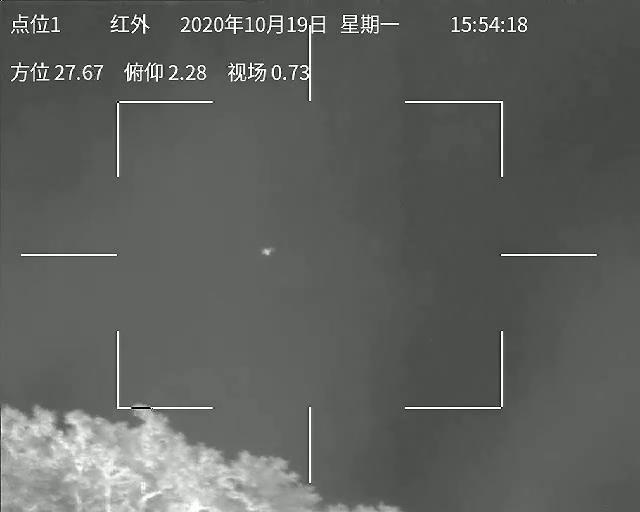uav: (259, 247, 277, 258)
